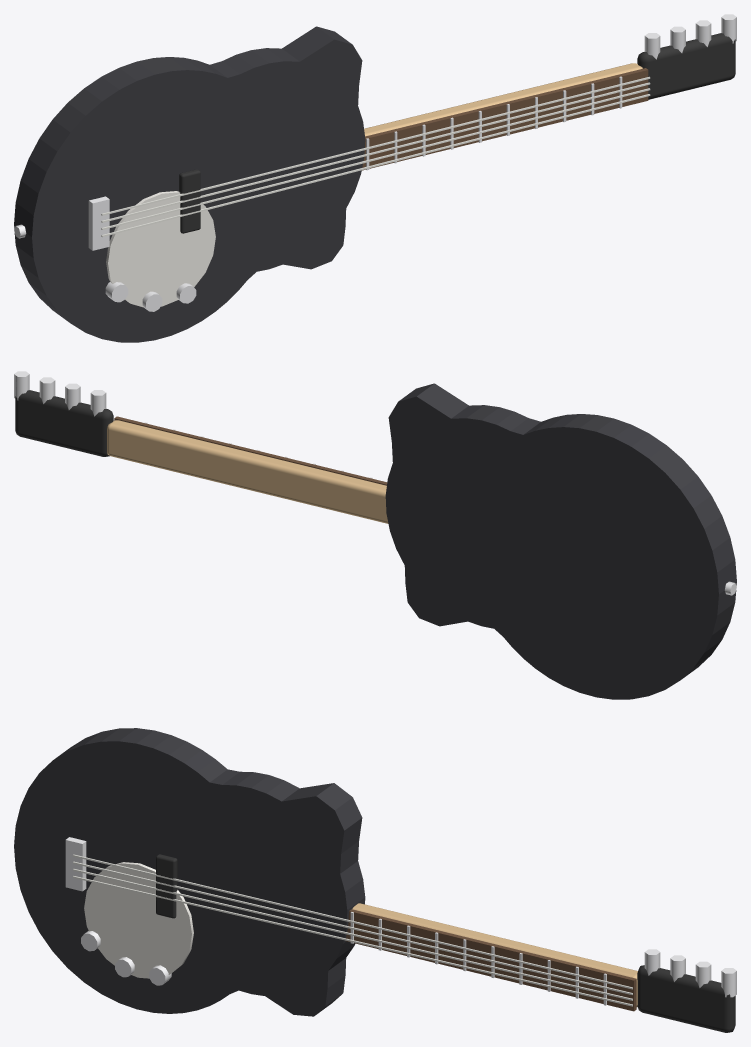
Rendered from bass.glb.
3 renders of one model, top to bottom at view 1: azimuth 30°, elevation 25°; view 2: azimuth 150°, elevation 25°; view 3: azimuth 330°, elevation 25°, orthographic.
Visible parts, largest first — view 1: bass_shiny, bass_std, bass_metal; view 2: bass_shiny, bass_std; view 3: bass_shiny, bass_std, bass_metal.
Part boxes in pixels (x1,y1,x2,y2): bass_shiny: (14,26,365,342); bass_std: (14,14,736,311); bass_metal: (101,76,650,237); bass_shiny: (385,383,736,699); bass_std: (14,371,736,595); bass_shiny: (14,728,365,1016); bass_std: (14,837,736,1032); bass_metal: (73,854,632,1006).
Size of the model in its own units: 1.27 by 0.4477 by 0.075.
